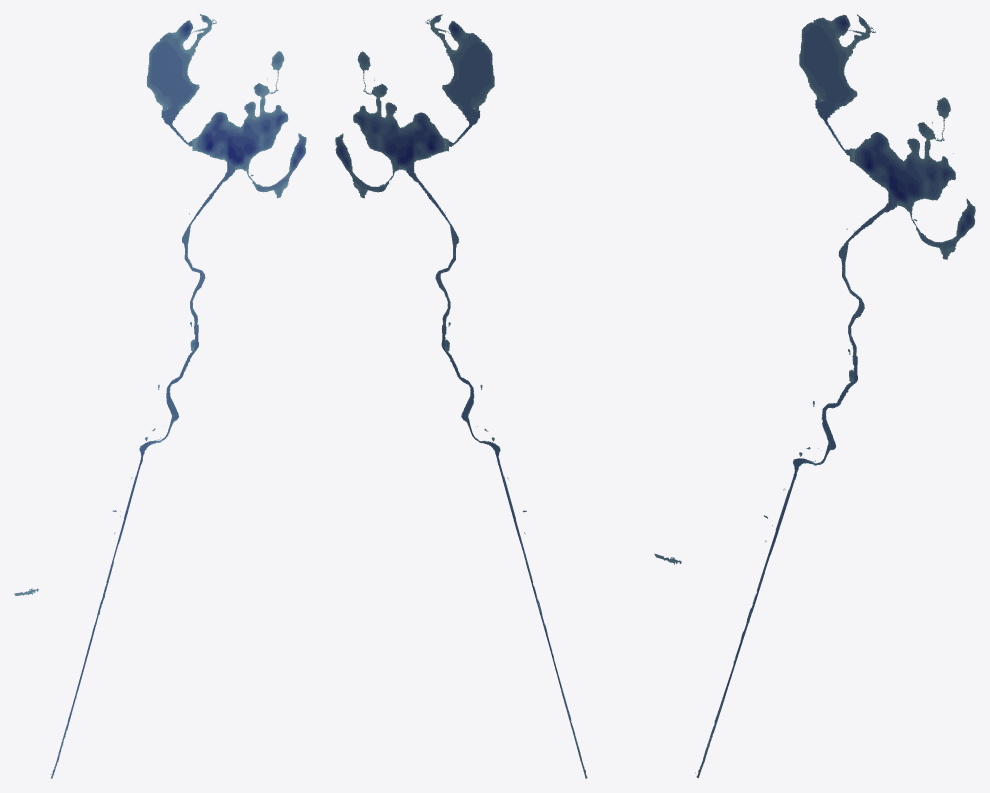
Rendered from triangle_mesh.glb.
3 views of the same model, side by side, from view 1: azimuth 30°, elevation 25°; view 2: azimuth 150°, elevation 25°; view 3: azimuth 330°, elevation 25° (orthographic). The views are drawn at different scales.
Visible parts, largest first — view 1: world; view 2: world; view 3: world.
Boxes of the visible parts, left/top/right/bottom form: world: left=14, top=14, right=306, bottom=778; world: left=335, top=14, right=587, bottom=778; world: left=654, top=14, right=975, bottom=778.
Bounding box in the file's own units: 1147 × 2739 × 13.97.
